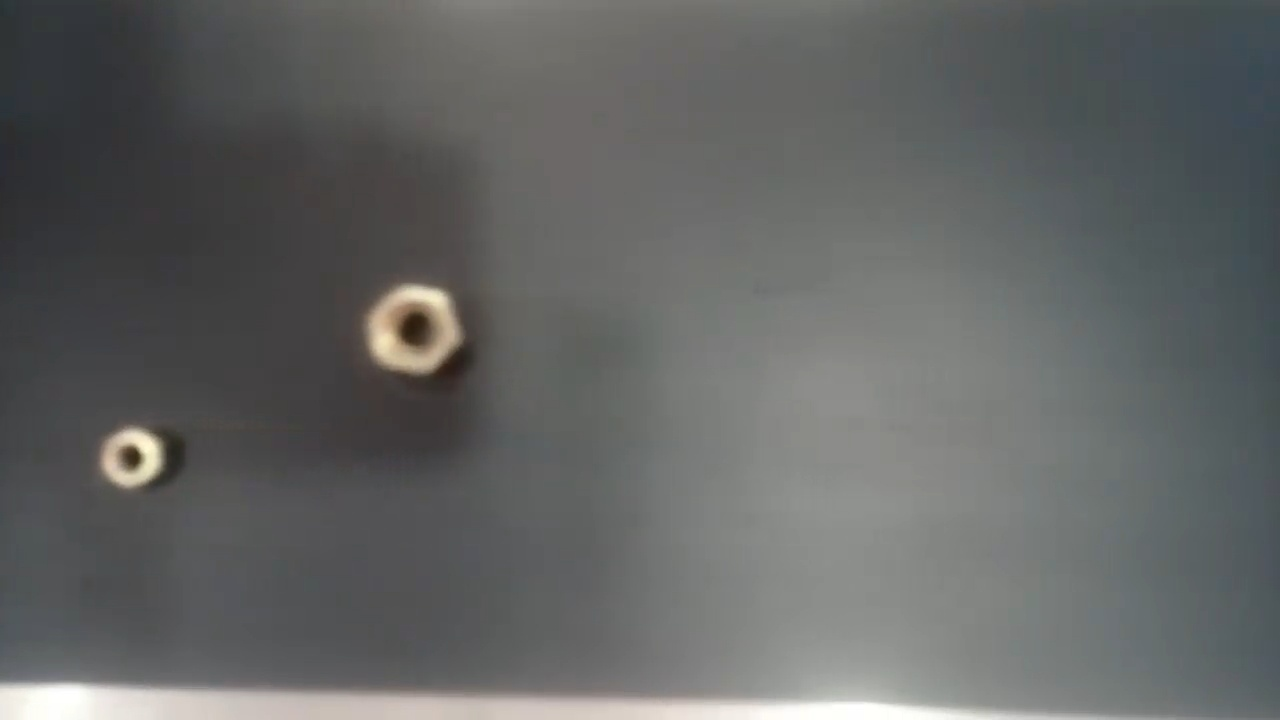Bolt: (360, 281, 470, 381), (96, 422, 174, 493)
